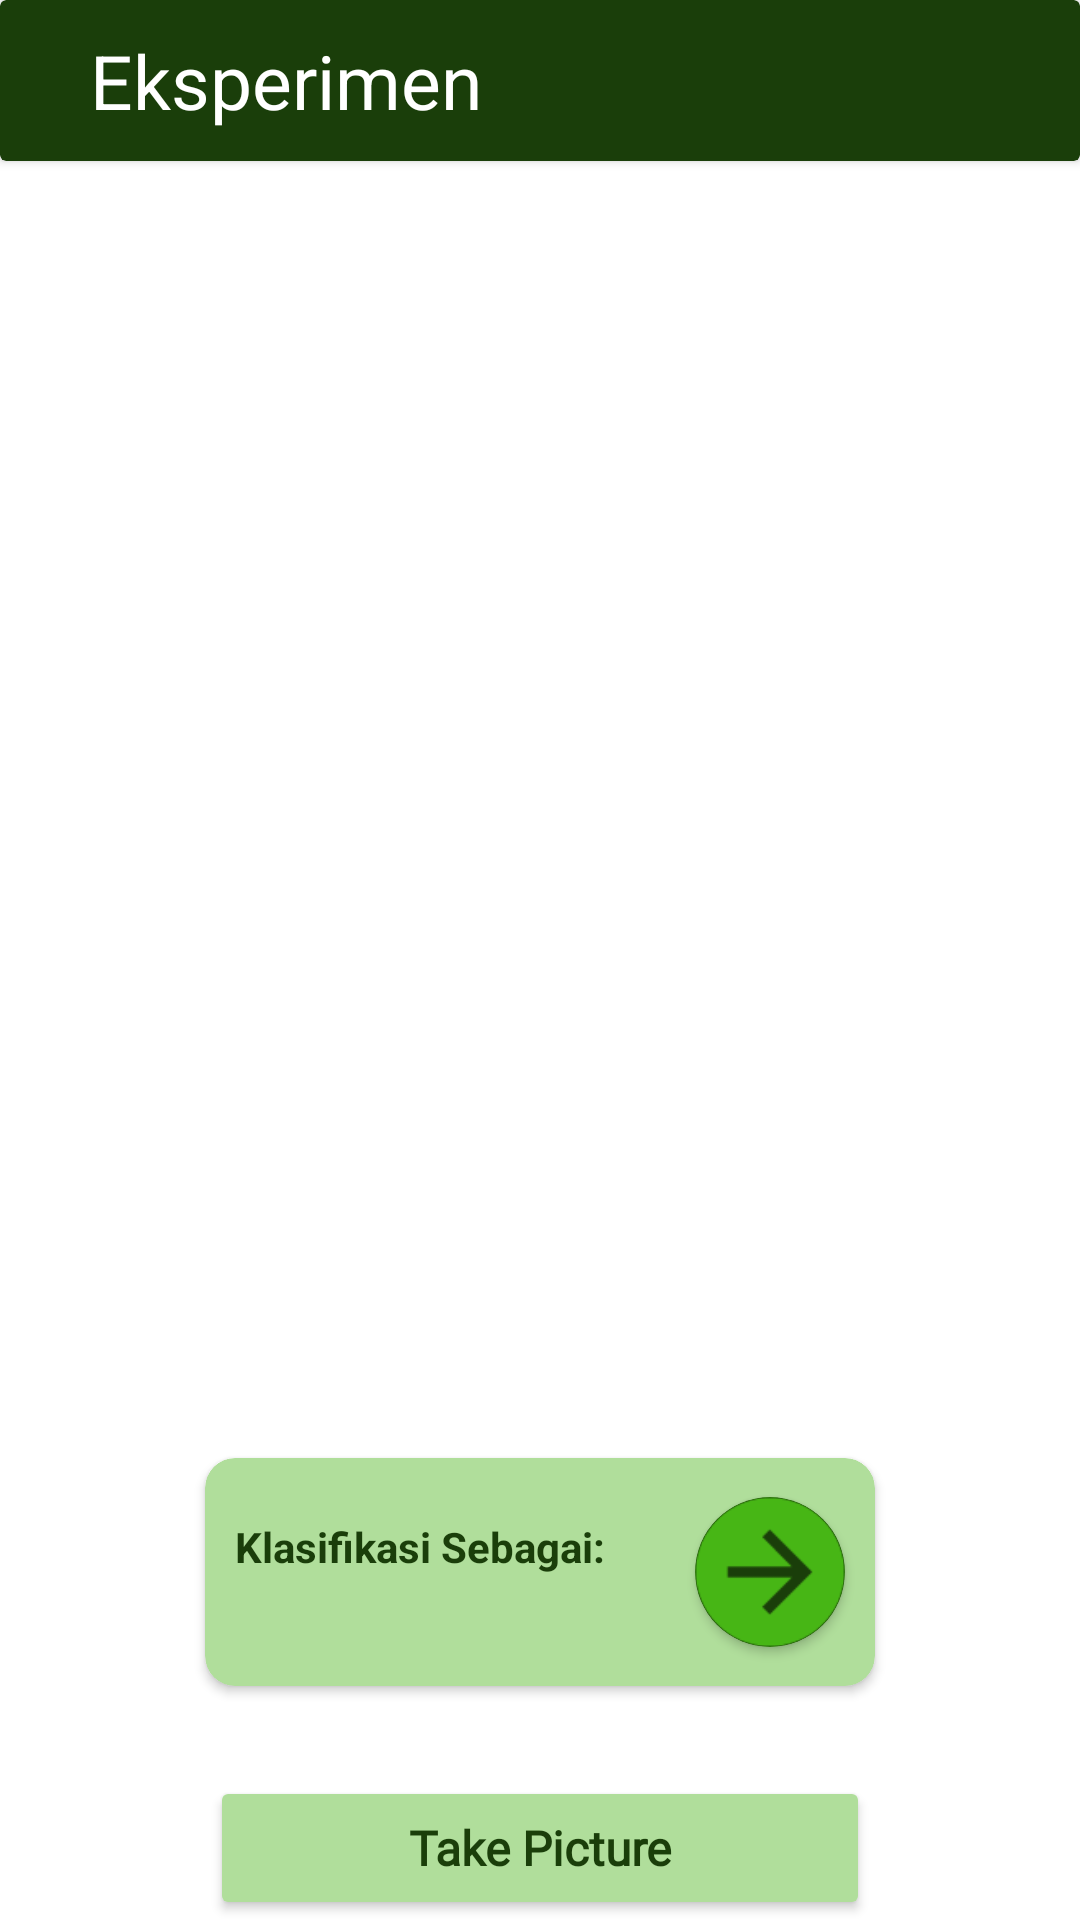

Screen size 1080 x 1920. Icon name, then its center in pixels as point (x, y):
panah: point (770, 1572)
